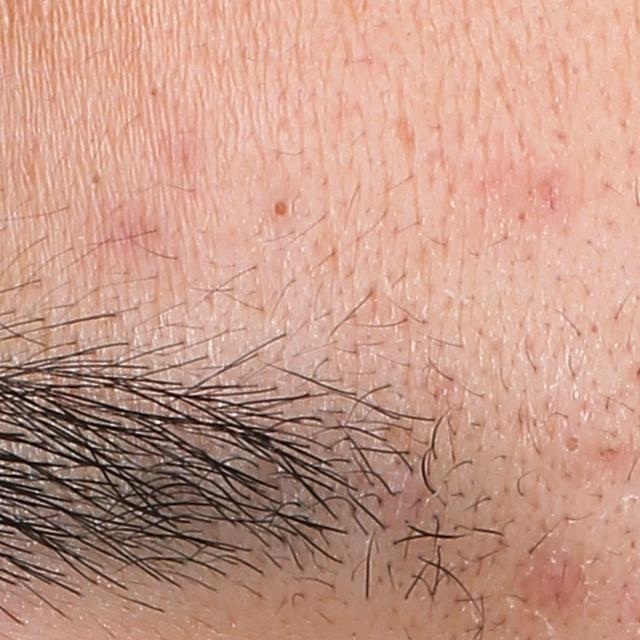comedo: (266, 194, 291, 220), (563, 434, 585, 456), (89, 173, 103, 189)
